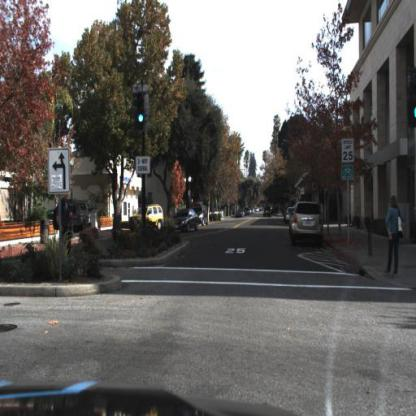car: (126, 202, 166, 231), (71, 201, 95, 237), (170, 208, 204, 233), (197, 203, 211, 228)
pedestrian: (386, 197, 404, 280), (56, 190, 74, 252)
trafficLight: (136, 90, 147, 122)
